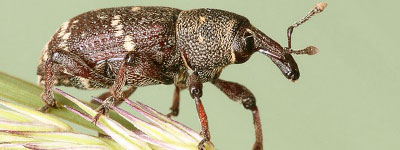dolgonosik: (35, 2, 329, 149)
